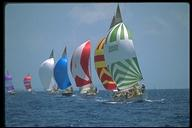sailboat: (103, 4, 148, 103), (70, 37, 99, 97), (53, 44, 75, 97), (37, 47, 59, 93), (5, 68, 18, 98), (23, 72, 34, 94)
sky: (147, 4, 188, 88), (6, 4, 102, 36)
water: (6, 104, 189, 126)
